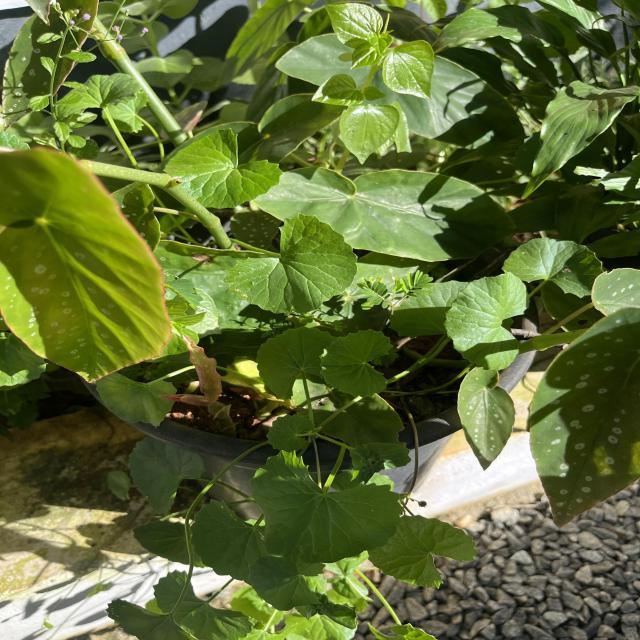Centella asiatica: (248, 448, 406, 564), (222, 211, 360, 316), (160, 123, 288, 210), (441, 270, 532, 373), (365, 512, 480, 590), (498, 236, 606, 300), (254, 324, 338, 401), (317, 326, 397, 399)
